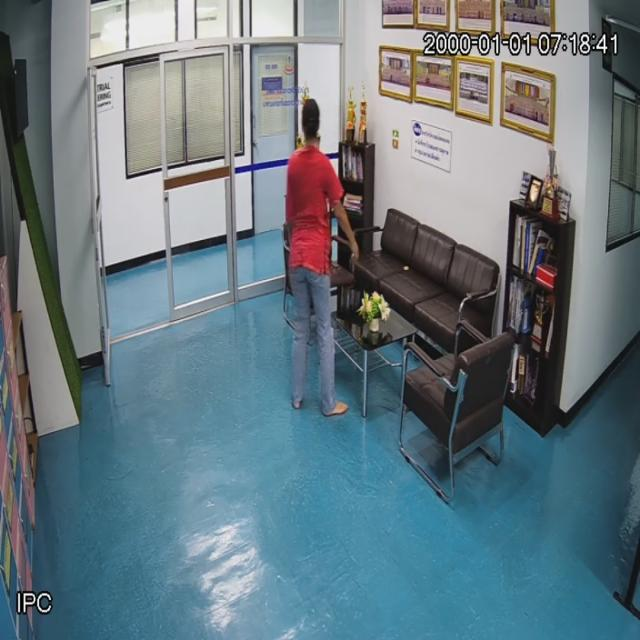normal: (284, 100, 346, 416)
